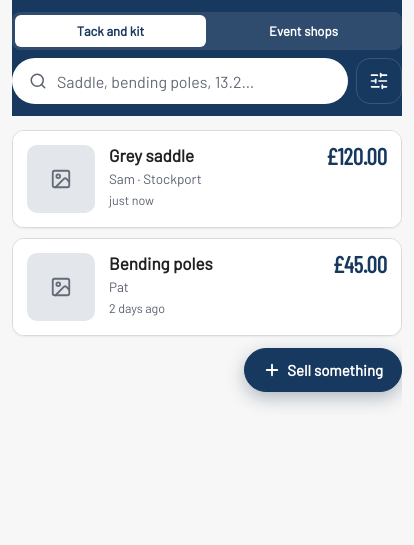
Test case: the shop › opens a listing to show the description, contact and comments
This screenshot has width=414, height=545.
What coordinates should you click on to do the following:
click the button "Grey saddle Sam · Stockport just now £120.00"
I would click on:
 (61, 179)
Its box is [13,131,401,227].
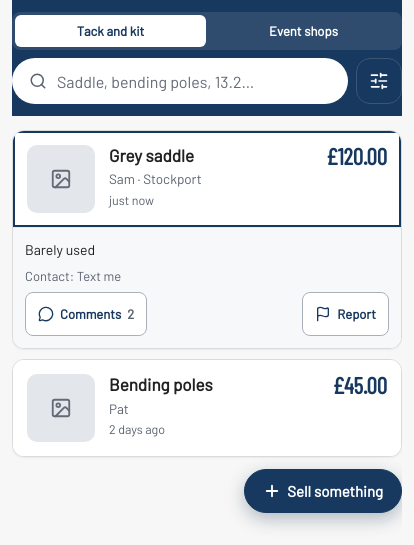
Result: the text "Barely used" is shown at [25,241,95,258]
Result: the text "Contact: Text me" is shown at [25,268,121,284]
Result: the button "Comments 2" is shown at [25,292,147,336]
What coordinates should you click on to do the following:
click the button "Grey saddle Sam · Stockport just now £120.00"
I would click on:
 (61, 179)
Its box is [13,131,401,227].
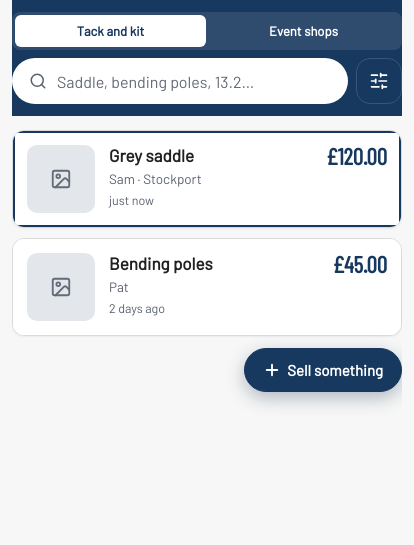
Result: the text "Barely used" is gone
